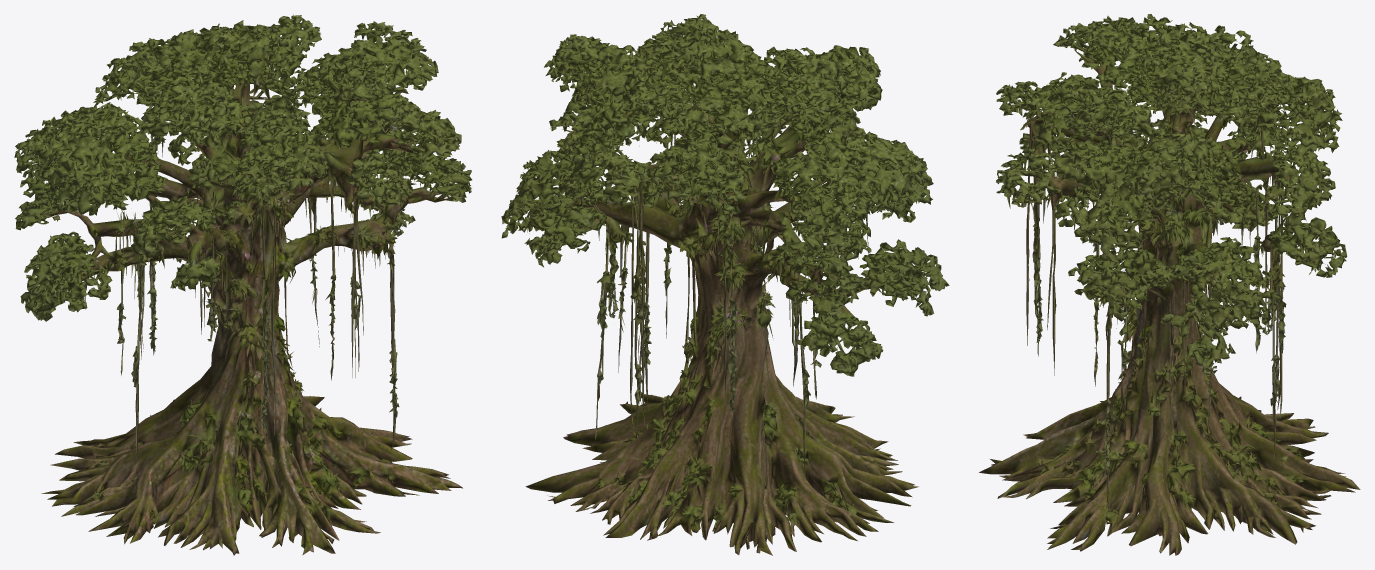
Rendered from ancient-rainforest.glb.
The picture shows the model from 3 angles, left to right: view 1: azimuth 30°, elevation 25°; view 2: azimuth 150°, elevation 25°; view 3: azimuth 270°, elevation 25°; orthographic projection. The views are drawn at different scales.
Bounding box in the file's own units: 1.88 × 1.91 × 1.52.
1 material, 1 textured.
